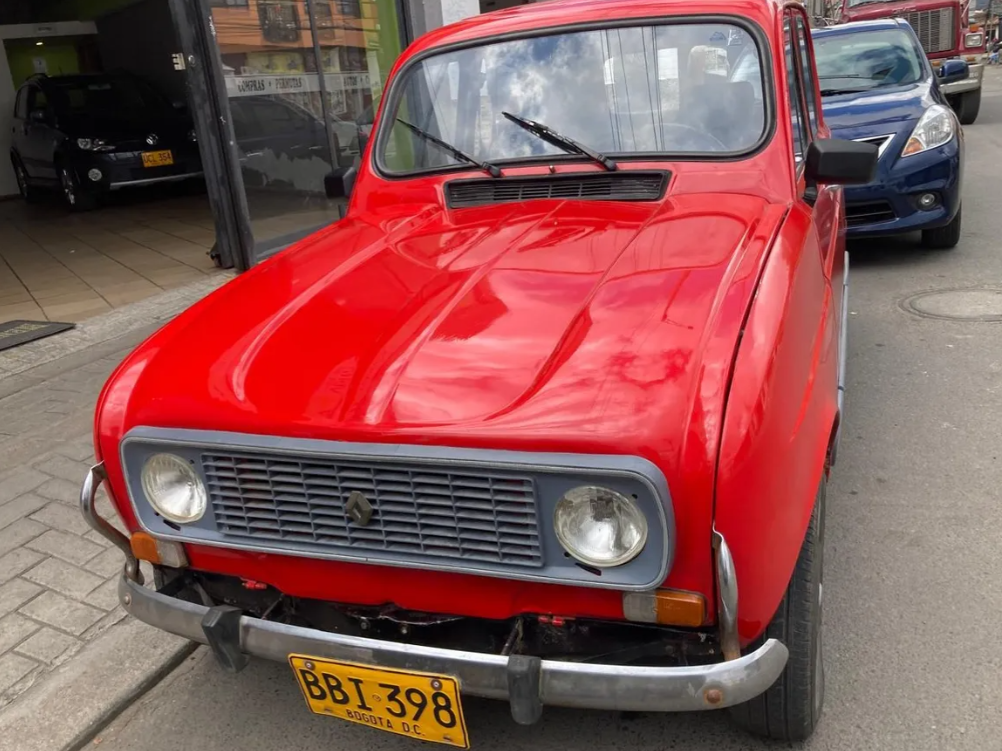placa: (284, 645, 473, 747)
